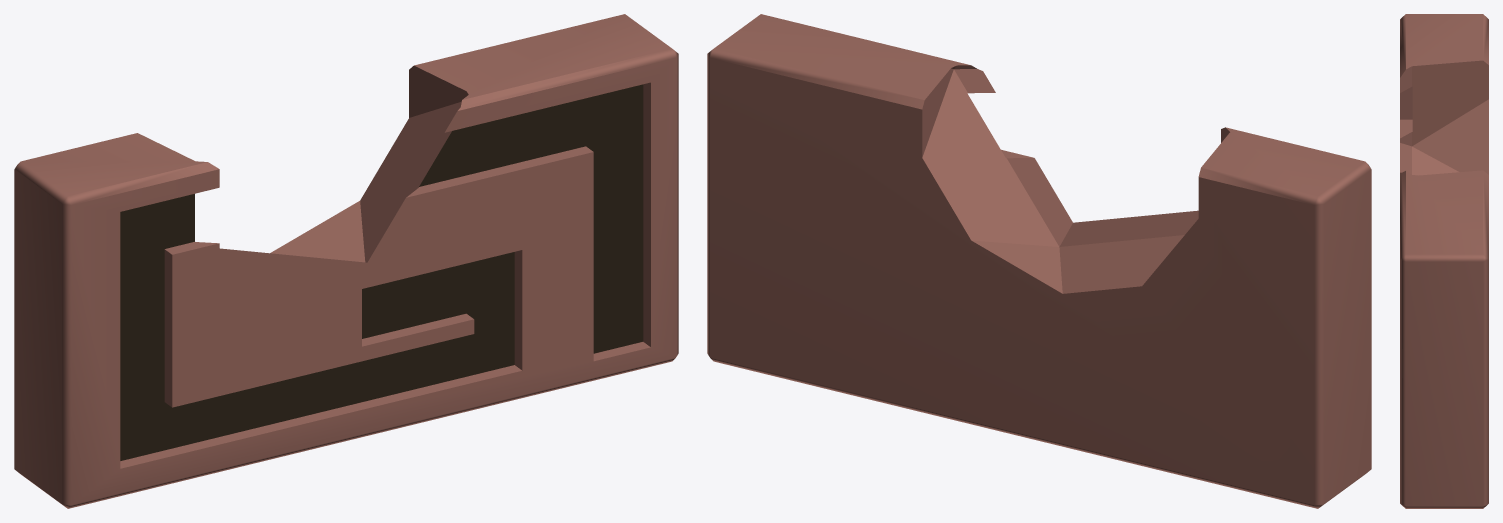
Rendered from SM_muretto3.fbx.
3 renders of one model, left to right at view 1: azimuth 30°, elevation 25°; view 2: azimuth 150°, elevation 25°; view 3: azimuth 270°, elevation 25°, orthographic. The views are drawn at different scales.
Visible parts, largest first — view 1: pCube59; view 2: pCube59; view 3: pCube59.
Part boxes in pixels (x1,y1,x2,y2): pCube59: (14, 14, 678, 508); pCube59: (707, 14, 1371, 508); pCube59: (1400, 14, 1488, 508).
Size of the model in its own units: 3.61 by 1.75 by 0.5535.
